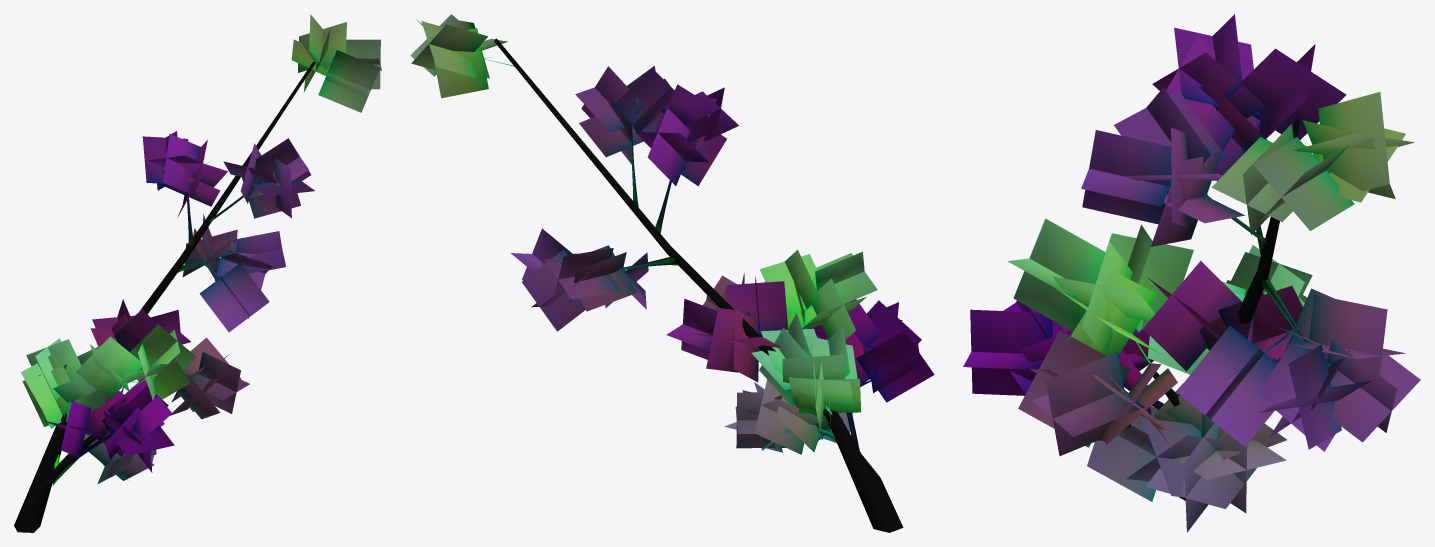
File: URP_P5_Tree_12_LOD_3.fbx
The picture shows the model from 3 angles, left to right: view 1: azimuth 30°, elevation 25°; view 2: azimuth 150°, elevation 25°; view 3: azimuth 270°, elevation 25°; orthographic projection. The views are drawn at different scales.
Visible parts, largest first — view 1: Tree_12_LOD_3; view 2: Tree_12_LOD_3; view 3: Tree_12_LOD_3.
Boxes of the visible parts, x1,y1,x2,y2 form: Tree_12_LOD_3: (14, 14, 381, 532); Tree_12_LOD_3: (410, 14, 934, 532); Tree_12_LOD_3: (963, 14, 1420, 532).
Bounding box in the file's own units: 741 × 702 × 422.
